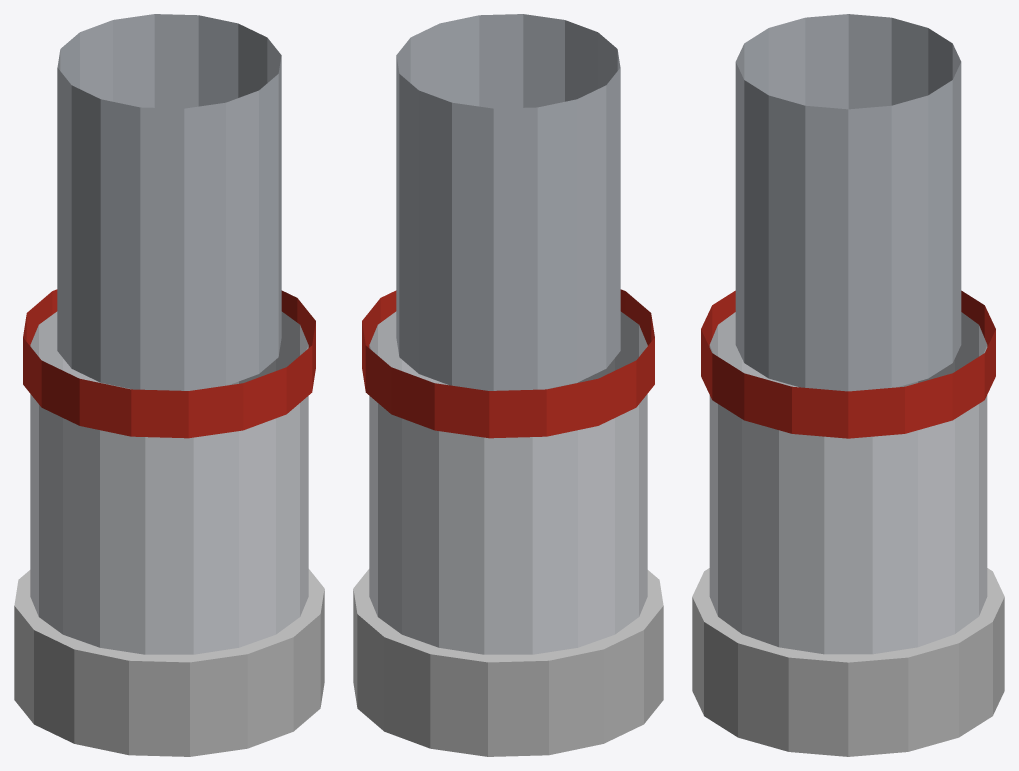
The model's file is two_stage_motor.obj.
3 renders of one model, left to right at view 1: azimuth 30°, elevation 25°; view 2: azimuth 150°, elevation 25°; view 3: azimuth 270°, elevation 25°, orthographic.
Visible parts, largest first — view 1: two_stage_motor; view 2: two_stage_motor; view 3: two_stage_motor.
Boxes of the visible parts, box(x1,y1,x2,y2) form: two_stage_motor: box(14, 14, 324, 756); two_stage_motor: box(353, 14, 663, 756); two_stage_motor: box(692, 14, 1004, 756).
Bounding box in the file's own units: 0.18 × 0.4 × 0.18.
